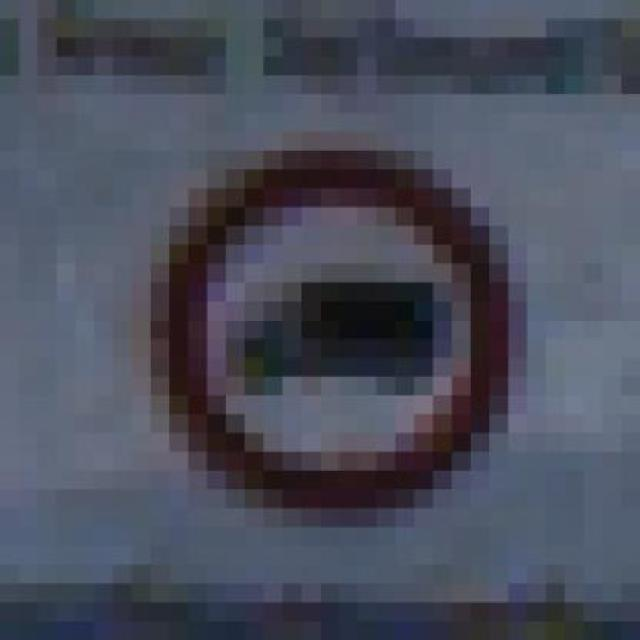Truck traffic is prohibited: (76, 131, 564, 527)
